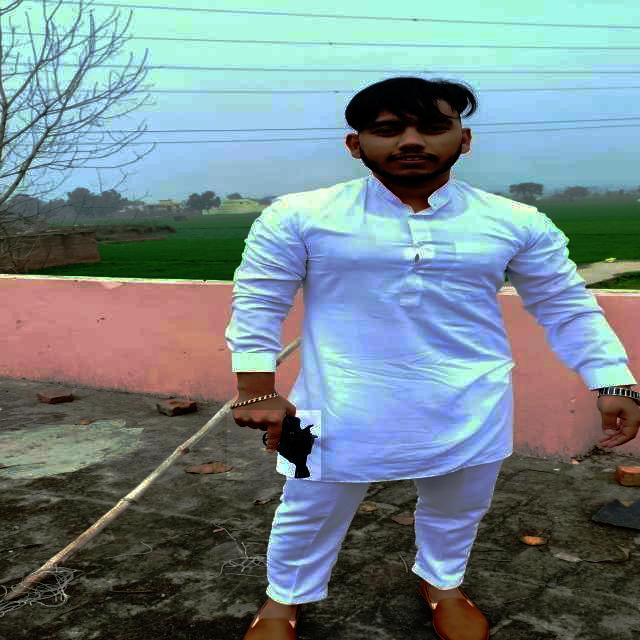Gun: (246, 399, 322, 478)
